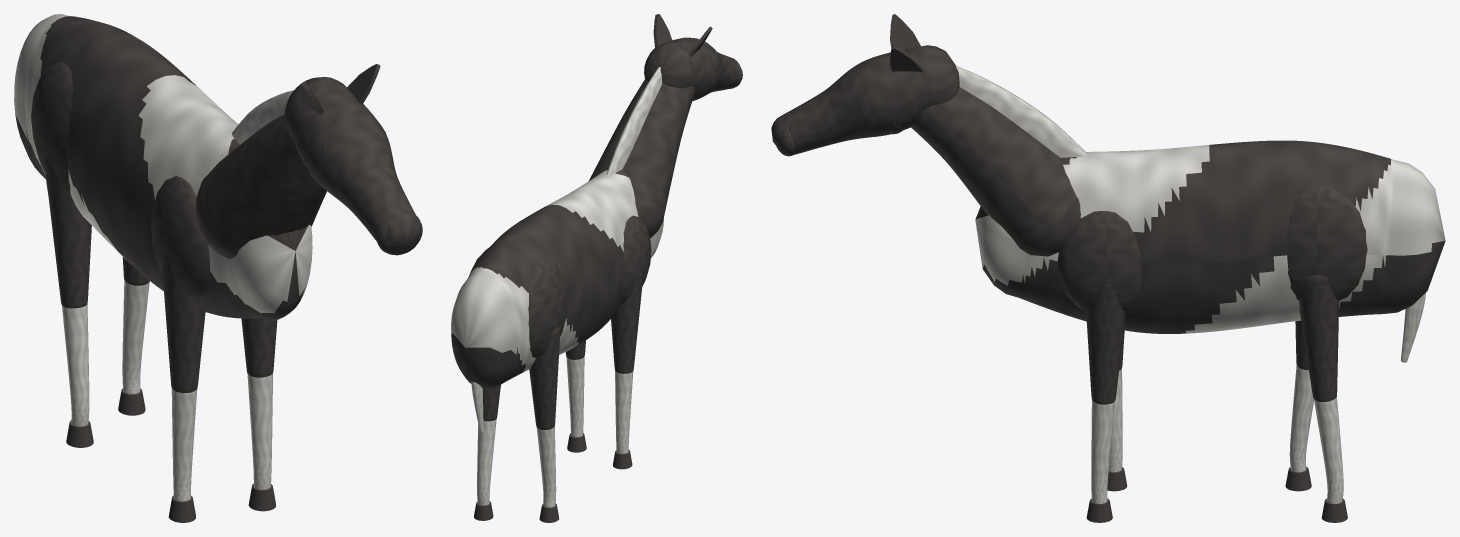
The model's file is farm-and-working-animals-hd-horse-standing-piebald-d289d586__29177.glb.
3 views of the same model, side by side, from view 1: azimuth 30°, elevation 25°; view 2: azimuth 150°, elevation 25°; view 3: azimuth 270°, elevation 25° (orthographic). The views are drawn at different scales.
Parts seen in each view (by area): view 1: horse-standing-piebald; view 2: horse-standing-piebald; view 3: horse-standing-piebald.
Boxes of the visible parts, <box> form: horse-standing-piebald: <box>14,14,422,522</box>; horse-standing-piebald: <box>451,14,742,522</box>; horse-standing-piebald: <box>771,14,1445,522</box>.
Size of the model in its own units: 0.5076 by 2.16 by 2.8.
Materials: 2 (2 with a texture image).
